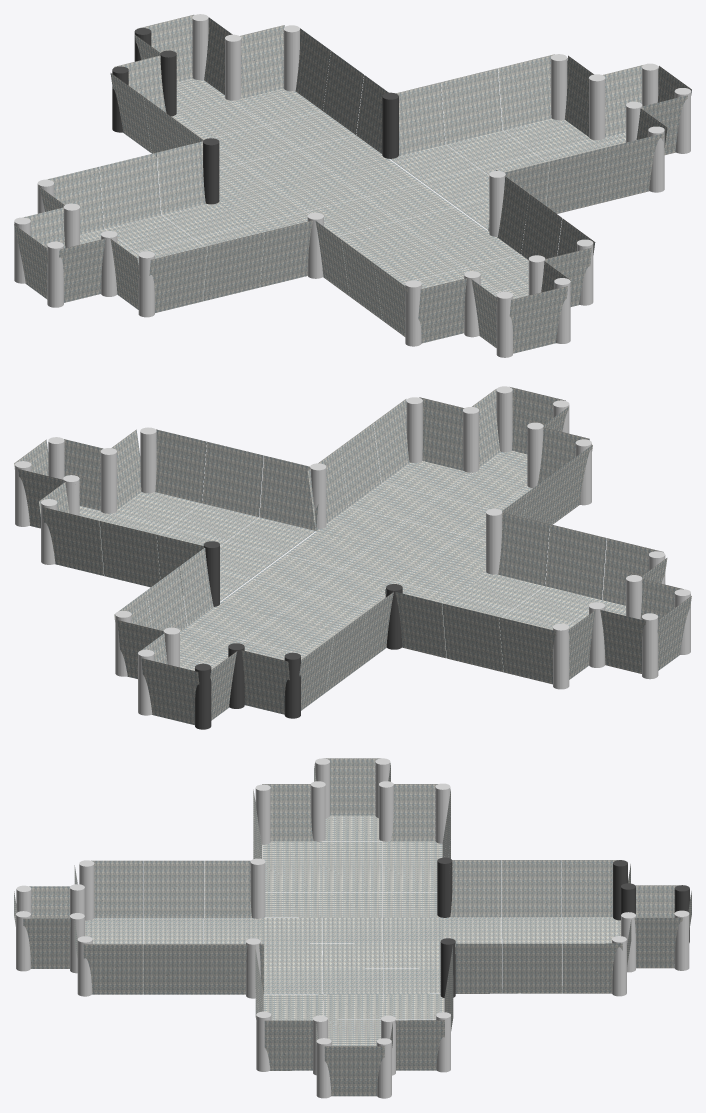
The model's file is map1-col.glb.
3 renders of one model, top to bottom at view 1: azimuth 30°, elevation 25°; view 2: azimuth 150°, elevation 25°; view 3: azimuth 270°, elevation 25°, orthographic. The views are drawn at different scales.
Parts seen in each view (by area): view 1: Plane.069, Plane.019, Plane.071, Plane.018, Plane.068, Plane.016, Plane.021, Plane.070, Plane.058, Plane.030, Plane.067, Plane.017 (+84 smaller); view 2: Plane.018, Plane.068, Plane.066, Plane.019, Plane.067, Plane.069, Plane.017, Plane.071, Plane.020, Plane.047, Plane.028, Plane.021 (+83 smaller); view 3: Plane.062, Plane.024, Plane.063, Plane.025, Plane.060, Plane.061, Plane.023, Plane.027, Plane.022, Plane.003, Plane.074, Plane.064 (+60 smaller).
Boxes of the visible parts, box(x1,y1,x2,y2) form: Plane.069: box(441, 68, 502, 144); Plane.019: box(99, 153, 160, 228); Plane.071: box(498, 54, 554, 130); Plane.018: box(203, 232, 264, 301); Plane.068: box(546, 147, 606, 213); Plane.016: box(149, 246, 207, 312); Plane.021: box(157, 141, 205, 214); Plane.070: box(396, 82, 445, 155); Plane.058: box(232, 25, 284, 100); Plane.030: box(509, 286, 567, 353); Plane.067: box(602, 133, 663, 202); Plane.017: box(260, 220, 312, 287); Plane.018: box(545, 524, 606, 599); Plane.068: box(202, 441, 263, 516); Plane.066: box(259, 455, 318, 530); Plane.019: box(442, 603, 503, 672); Plane.067: box(155, 429, 206, 503); Plane.069: box(99, 521, 160, 587); Plane.017: box(497, 512, 549, 585); Plane.071: box(42, 507, 103, 575); Plane.020: box(499, 617, 555, 684); Plane.047: box(141, 658, 199, 725); Plane.028: box(419, 397, 464, 470); Plane.021: box(385, 589, 446, 658); Plane.062: box(501, 860, 561, 917); Plane.024: box(144, 860, 203, 917); Plane.063: box(502, 943, 562, 993); Plane.025: box(144, 944, 203, 994); Plane.060: box(562, 860, 618, 917); Plane.061: box(450, 860, 501, 917); Plane.023: box(91, 860, 143, 917); Plane.027: box(83, 944, 143, 994); Plane.022: box(204, 860, 264, 917); Plane.003: box(324, 758, 380, 815); Plane.074: box(324, 1046, 384, 1096); Plane.064: box(562, 943, 622, 993).
Bounding box in the file's own units: 259 × 22.87 × 257.
98 materials, 97 textured.
